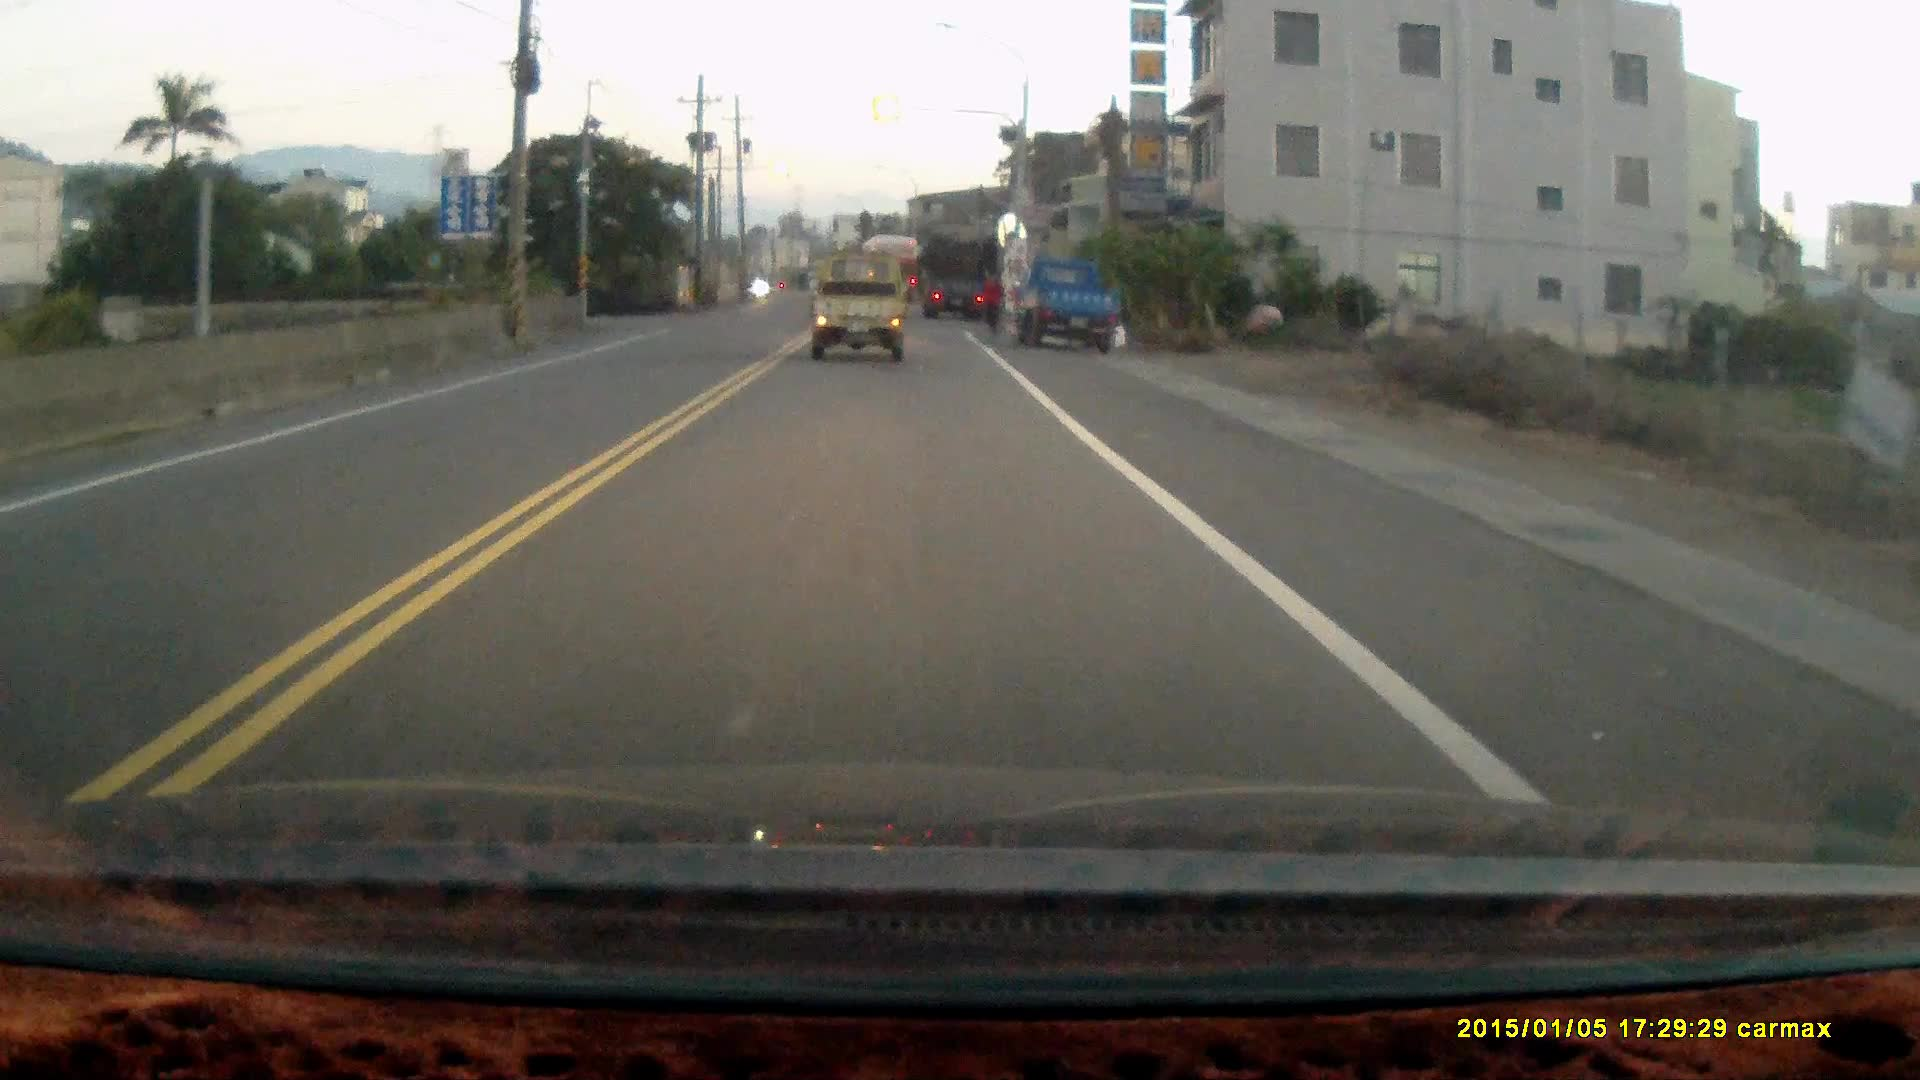pedestrian: (979, 269, 1003, 338)
vehicle: (809, 255, 910, 369), (1009, 256, 1119, 352), (921, 243, 998, 319)
